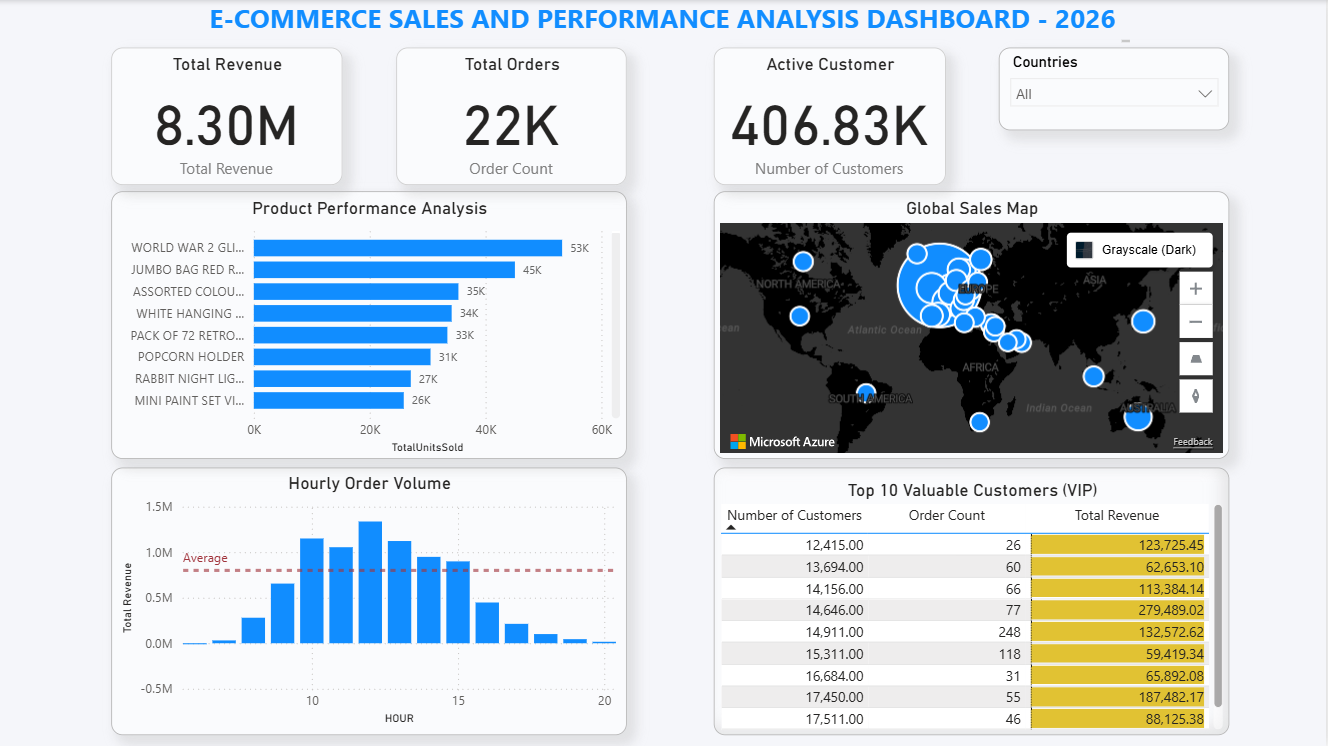

The page's visual inventory and layout, read from the dashboard file:
{"tool":"powerbi","page":{"name":"1. sayfa","canvas":[1280,720],"ordinal":0},"visuals":[{"type":"azureMap","title":"Global Sales Map","fields":{"Category":["Satislar.Country"],"Size":["Satislar.Toplam Kazanç"]},"box":[688.8,185,497.5,258.8],"z":0},{"type":"columnChart","title":"Hourly Order Volume","fields":{"Y":["Satislar.Toplam Kazanç"],"Category":["Satislar.Sanal_Saat"]},"box":[107.5,451,497.5,258.8],"z":1000},{"type":"clusteredBarChart","title":"Product Performance Analysis","fields":{"Category":["Satislar.Description"],"Y":["Satislar.Toplam_Satis_Adedi"]},"box":[107.5,185,497.5,258.8],"z":2000},{"type":"tableEx","title":"Top 10 Valuable Customers (VIP)","fields":{"Values":["Sales.Number of Customers","Sales.Order Count","Satislar.Toplam Kazanç"]},"box":[688.8,451.2,497.5,258.8],"z":3000},{"type":"slicer","fields":{"Values":["Satislar.Country"]},"box":[963.8,46.2,222.5,80],"z":4000},{"type":"card","title":"Total Revenue","fields":{"Values":["Sales.Total Revenue"]},"box":[107.5,46.2,223,132.5],"z":5000},{"type":"card","title":"Total Orders","fields":{"Values":["Sales.Order Count"]},"box":[382.5,46.2,222.5,132.5],"z":6000},{"type":"card","title":"Active Customer","fields":{"Values":["CountNonNull(Sales.Number of Customers)"]},"box":[688.8,46.2,223.8,132.5],"z":7000},{"type":"textbox","title":"E-COMMERCE SALES AND PERFORMANCE ANALYSIS DASHBOARD - 2026","box":[183.4,0,912.1,45.8],"z":8000}]}

Visuals, with their boxes in screenshot pixels (x1, y1, x2, y2), scaled from the page's 1280x720 canvas onto the 1328x746 screenshot:
"Global Sales Map" azureMap: (left=715, top=192, right=1231, bottom=460)
"Hourly Order Volume" columnChart: (left=112, top=467, right=628, bottom=735)
"Product Performance Analysis" clusteredBarChart: (left=112, top=192, right=628, bottom=460)
"Top 10 Valuable Customers (VIP)" tableEx: (left=715, top=467, right=1231, bottom=736)
slicer - Satislar.Country: (left=1000, top=48, right=1231, bottom=131)
"Total Revenue" card: (left=112, top=48, right=343, bottom=185)
"Total Orders" card: (left=397, top=48, right=628, bottom=185)
"Active Customer" card: (left=715, top=48, right=947, bottom=185)
"E-COMMERCE SALES AND PERFORMANCE ANALYSIS DASHBOARD - 2026" textbox: (left=190, top=0, right=1137, bottom=47)
